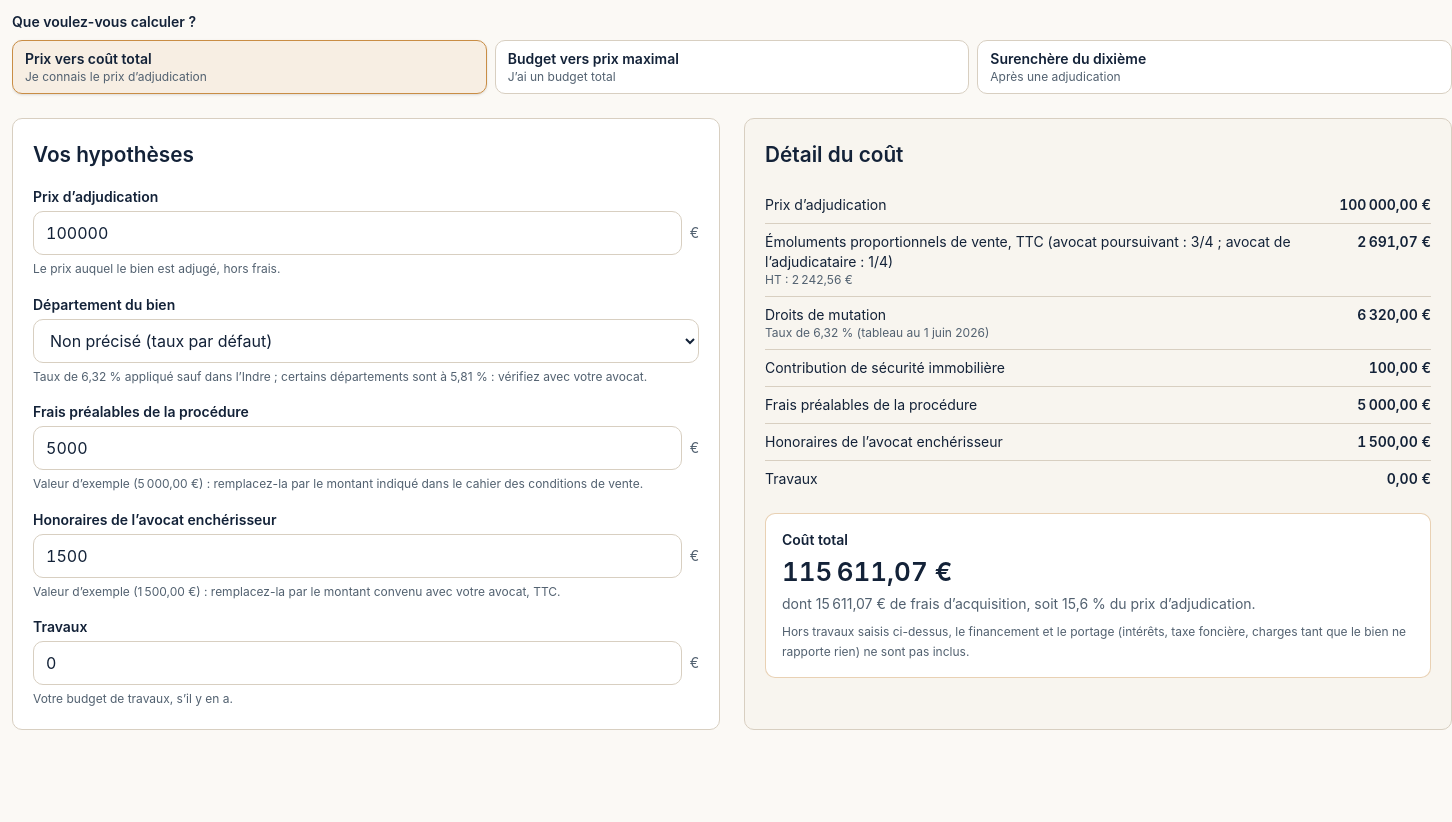
Test case: surenchère du dixième › n'invente aucun délai quand l'article n'est pas fourni
Click the radio button labelled "Surenchère du dixième Après une adjudication" at [1068, 58], box [977,40,1451,94]
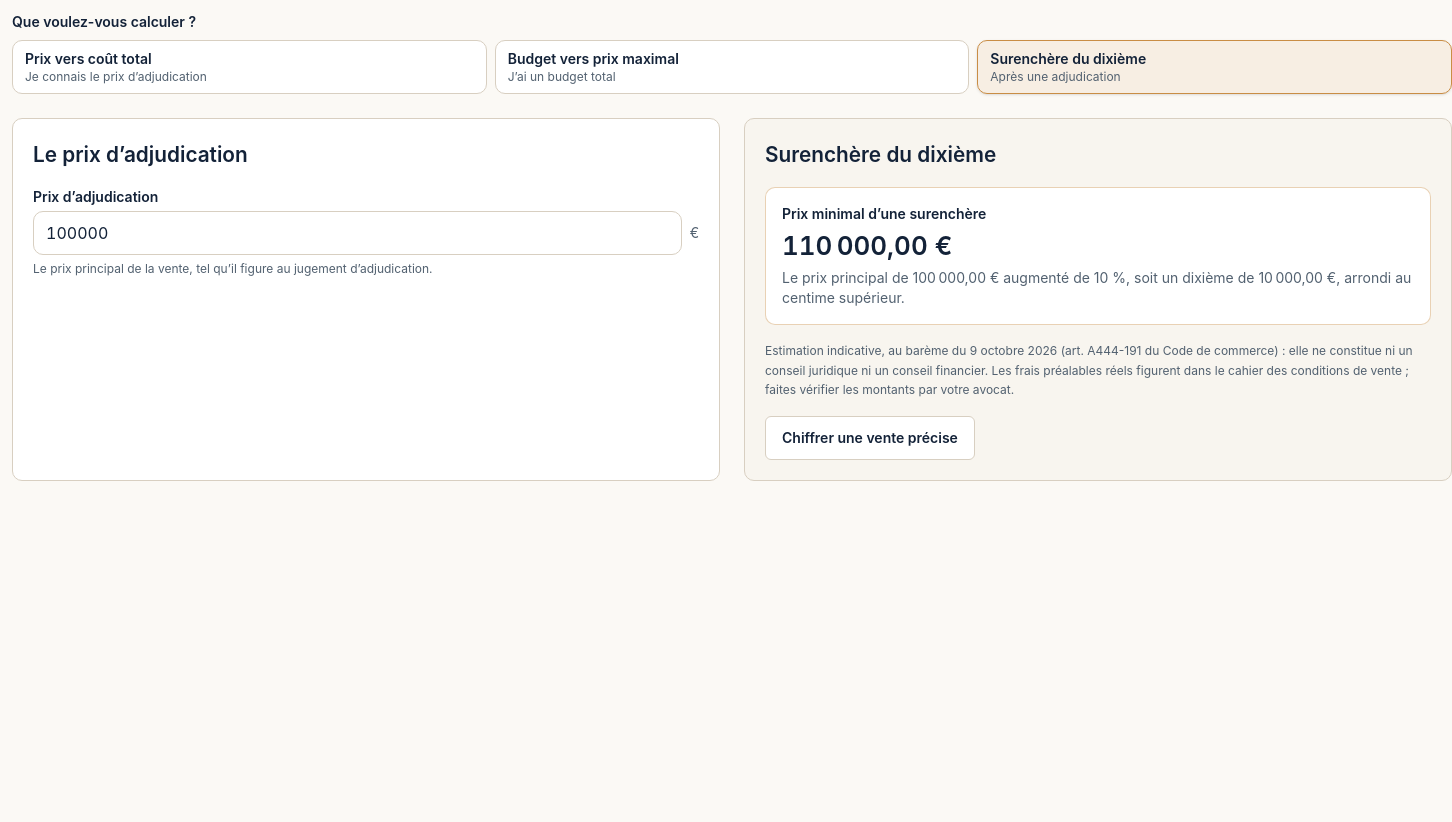
Result: the element "Surenchère du dixième" shows "ni un conseil juridique ni un conseil financier" at [765,343,1413,397]
